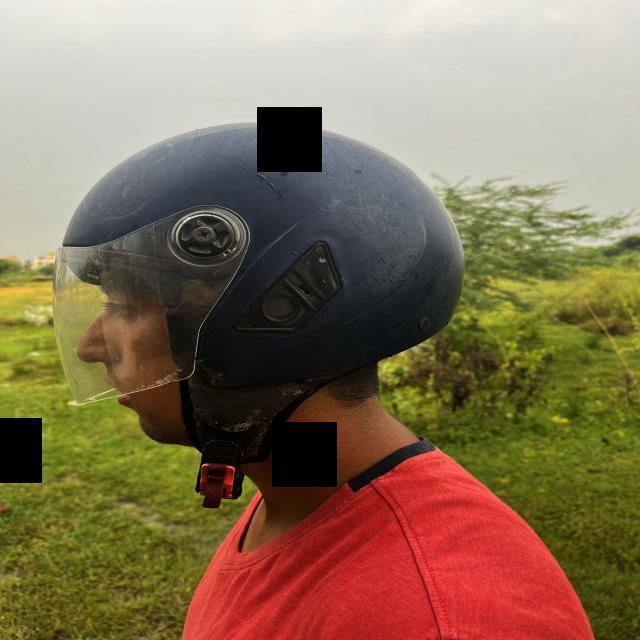helmet: (54, 120, 462, 510)
